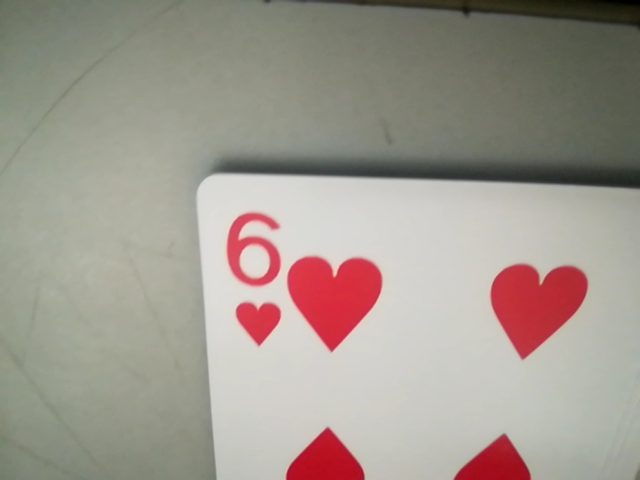hx 6: (203, 212, 289, 349)
